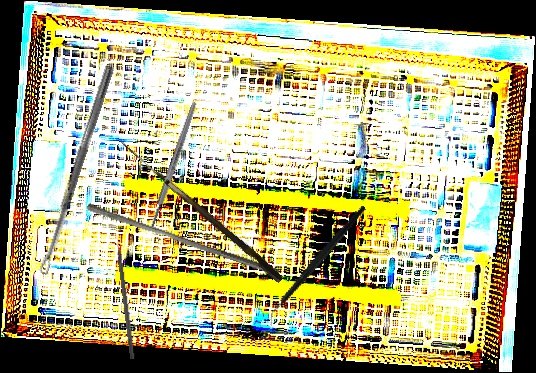Chopper: (241, 205, 394, 327)
Hook Surgical: (113, 140, 287, 284), (114, 232, 137, 360)
Pusher: (84, 202, 282, 277)
Scalpel Handle: (148, 100, 199, 229)
Surgical Spoon: (37, 64, 115, 276)
